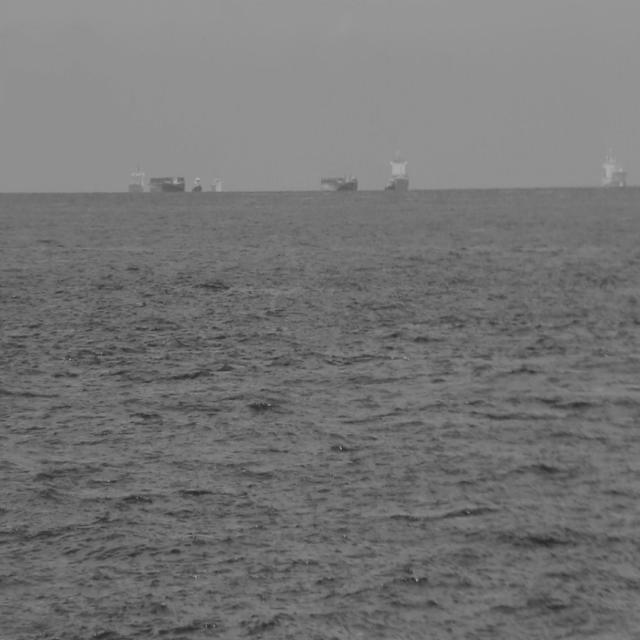ship: (128, 163, 186, 194), (382, 146, 410, 193), (600, 146, 627, 190), (318, 171, 358, 194), (190, 174, 203, 196)
